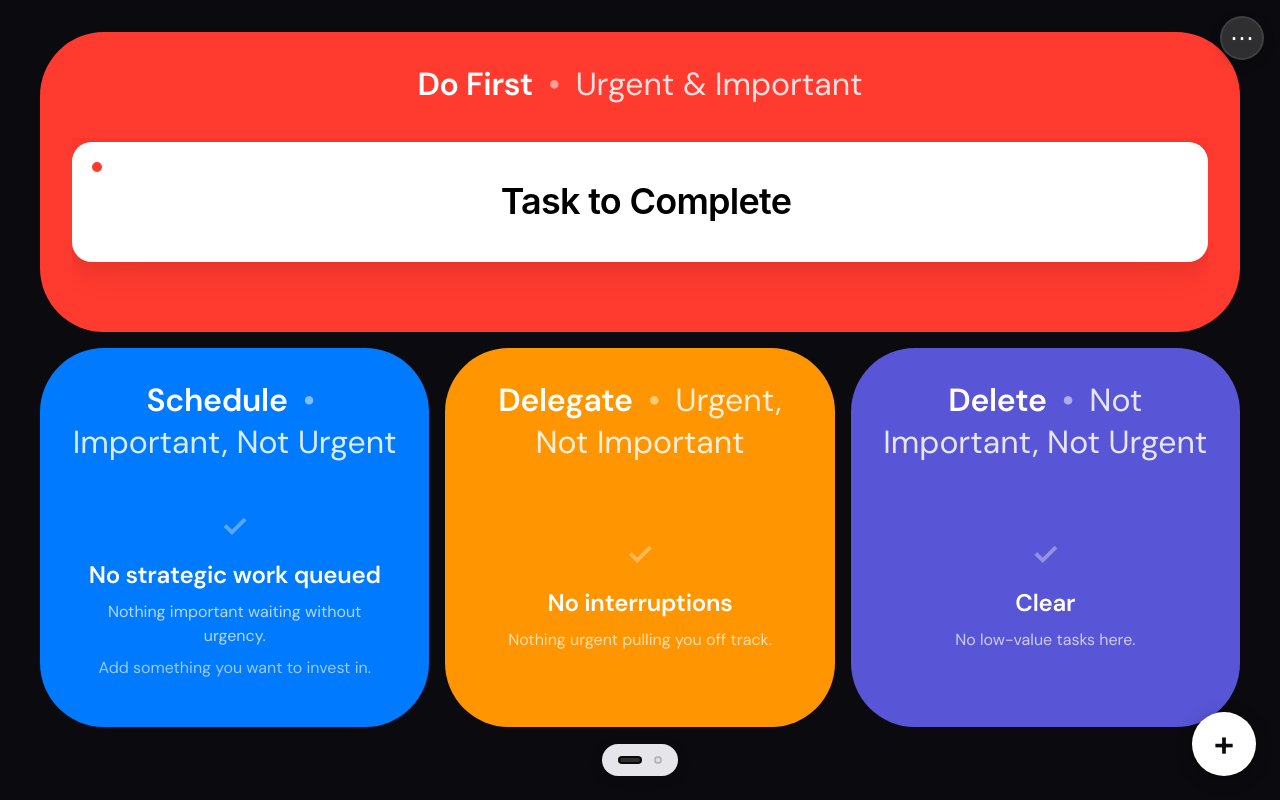
Test case: Task Details Modal › mark complete removes task from quadrant
Expected: the element with test id "quadrant-Q1" shows "Task to Complete", [501,179,791,223]
Open modal
Click the button "Task to Complete": (640, 202) [72,142,1208,262]
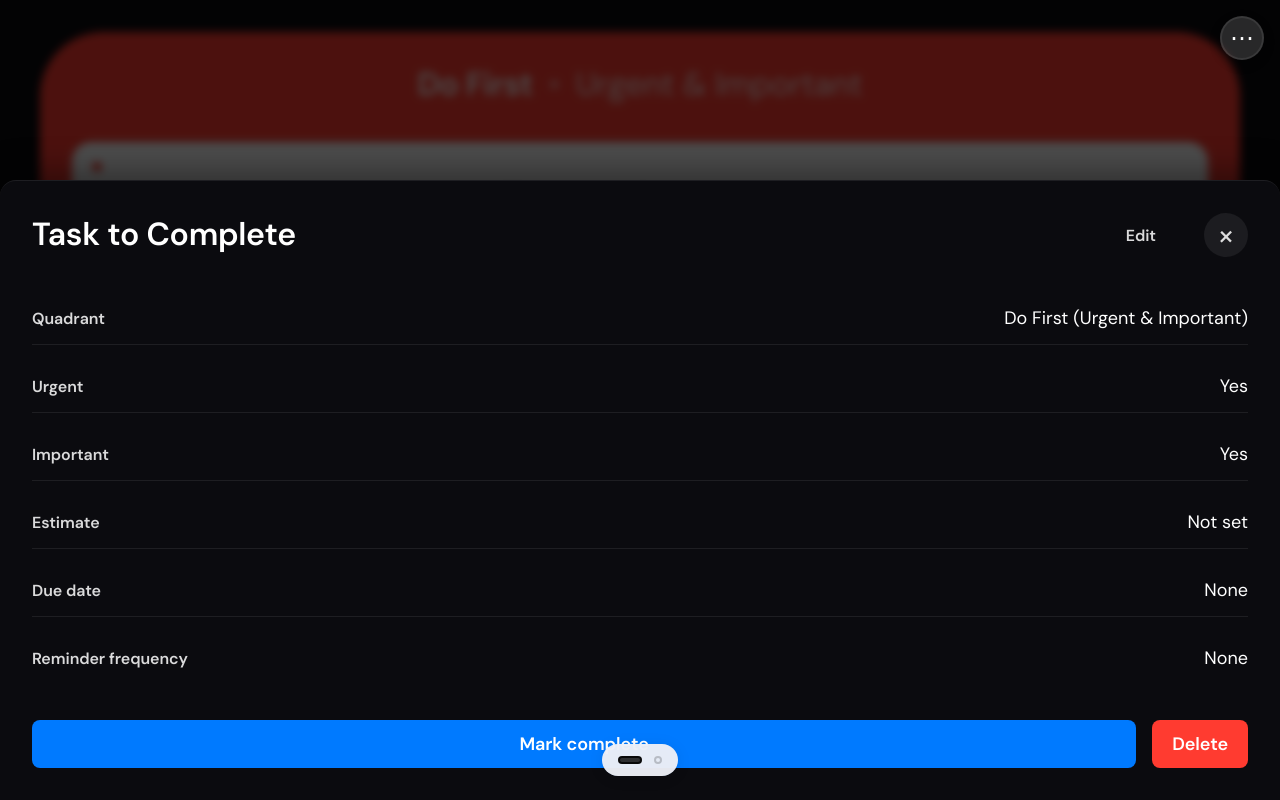
Expected: the dialog with test id "task-modal" is shown
Click Mark complete
Click the button with test id "complete-button": (584, 744) [32,720,1136,768]
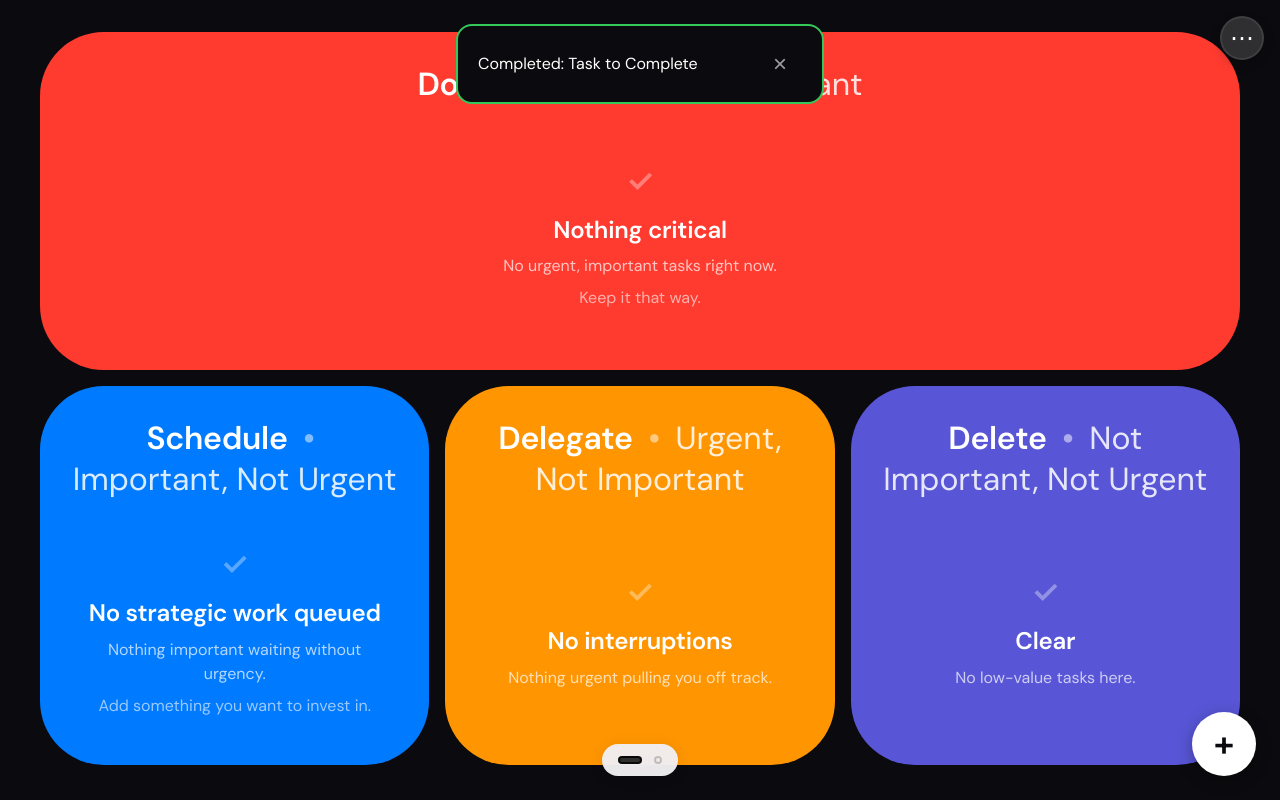
Expected: the element with test id "quadrant-Q1" does not show "Task to Complete", [40,32,1240,370]
Expected: the text "Completed: Task to Complete" is shown, [478,53,698,74]
